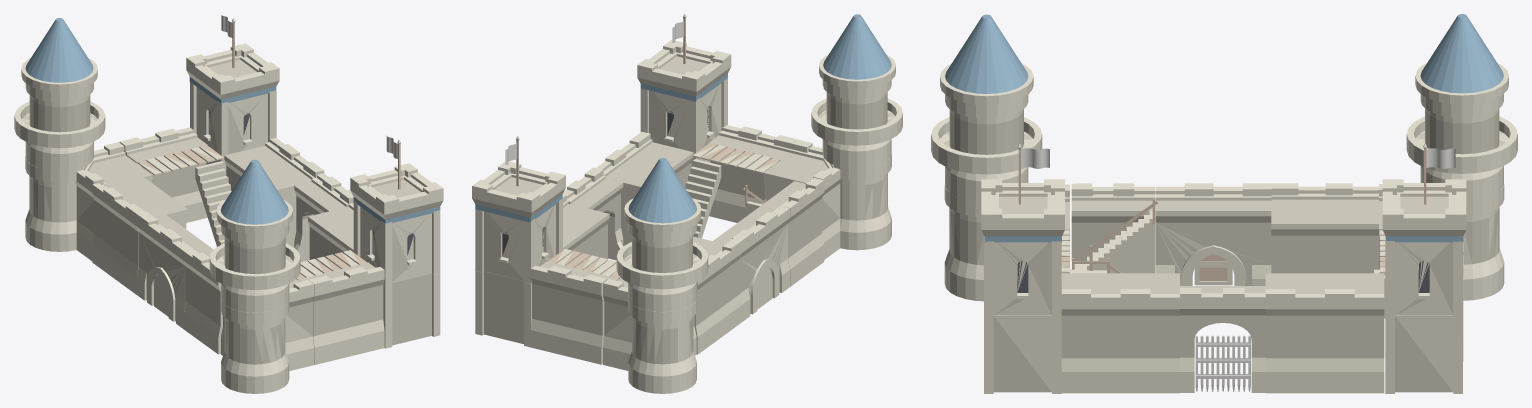
The model's file is 5level.glb.
3 renders of one model, left to right at view 1: azimuth 30°, elevation 25°; view 2: azimuth 150°, elevation 25°; view 3: azimuth 270°, elevation 25°, orthographic. The views are drawn at different scales.
Parts seen in each view (by area): view 1: wallCornerHalfTower.005, wallNarrowWood.005, wallCornerHalfTower.004, towerBalcony.004, towerBalcony.005, wallHalf.010, towerSquareMidWindows.001, wallNarrowWood.006, wallDoor.001, towerSquareMidWindows.010, towerSquareTopColor.005, towerSquareTopColor.004 (+9 smaller); view 2: wallCornerHalfTower.004, wallCornerHalfTower.005, wallNarrowWood.006, towerBalcony.005, towerBalcony.004, wallNarrowWood.005, towerSquareMidWindows.010, wallDoor.001, towerSquareMidWindows.001, wallHalf.010, wallNarrowStairsFence.001, towerSquareTopColor.004 (+9 smaller); view 3: wallHalf.006, wallHalf.001_wallHalf.003, wallDoor.001, wallHalf.010, towerBalcony.005, towerBalcony.004, wallNarrowStairsFence.001, towerSquareMid.010_towerSquareMid.004, towerSquareMid.035, towerSquareMidWindows.010, towerSquareMidWindows.001, wallNarrowGate.002 (+10 smaller).
Boxes of the visible parts, box(x1,y1,x2,y2) form: wallCornerHalfTower.005: box(221, 279, 313, 393); wallNarrowWood.005: box(296, 250, 384, 364); wallCornerHalfTower.004: box(25, 142, 152, 260); towerBalcony.004: box(14, 83, 105, 171); towerBalcony.005: box(209, 224, 300, 312); wallHalf.010: box(92, 177, 187, 294); towerSquareMidWindows.001: box(353, 201, 440, 285); wallNarrowWood.006: box(119, 127, 223, 222); wallDoor.001: box(136, 211, 213, 329); towerSquareMidWindows.010: box(190, 82, 276, 165); towerSquareTopColor.005: box(186, 43, 279, 104); towerSquareTopColor.004: box(350, 163, 443, 223); wallCornerHalfTower.004: box(603, 278, 696, 393); wallCornerHalfTower.005: box(763, 139, 891, 259); wallNarrowWood.006: box(530, 249, 620, 364); towerBalcony.005: box(811, 79, 902, 168); towerBalcony.004: box(616, 223, 708, 312); wallNarrowWood.005: box(692, 125, 797, 222); towerSquareMidWindows.010: box(475, 198, 562, 284); wallDoor.001: box(713, 206, 789, 321); towerSquareMidWindows.001: box(640, 78, 727, 162); wallHalf.010: box(693, 236, 742, 354); wallNarrowStairsFence.001: box(743, 177, 824, 286); towerSquareTopColor.004: box(637, 40, 731, 101); wallHalf.006: box(1265, 273, 1384, 393); wallHalf.001_wallHalf.003: box(1061, 273, 1179, 393); wallDoor.001: box(1155, 183, 1271, 285); wallHalf.010: box(1271, 183, 1379, 273); towerBalcony.005: box(931, 94, 1042, 202); towerBalcony.004: box(1406, 94, 1517, 201); wallNarrowStairsFence.001: box(1071, 183, 1157, 273); towerSquareMid.010_towerSquareMid.004: box(1385, 315, 1462, 393); towerSquareMid.035: box(984, 315, 1061, 393); towerSquareMidWindows.010: box(1385, 236, 1462, 317); towerSquareMidWindows.001: box(984, 236, 1061, 317); wallNarrowGate.002: box(1180, 286, 1265, 392).
Size of the model in its own units: 38.34 by 35.27 by 70.21.
